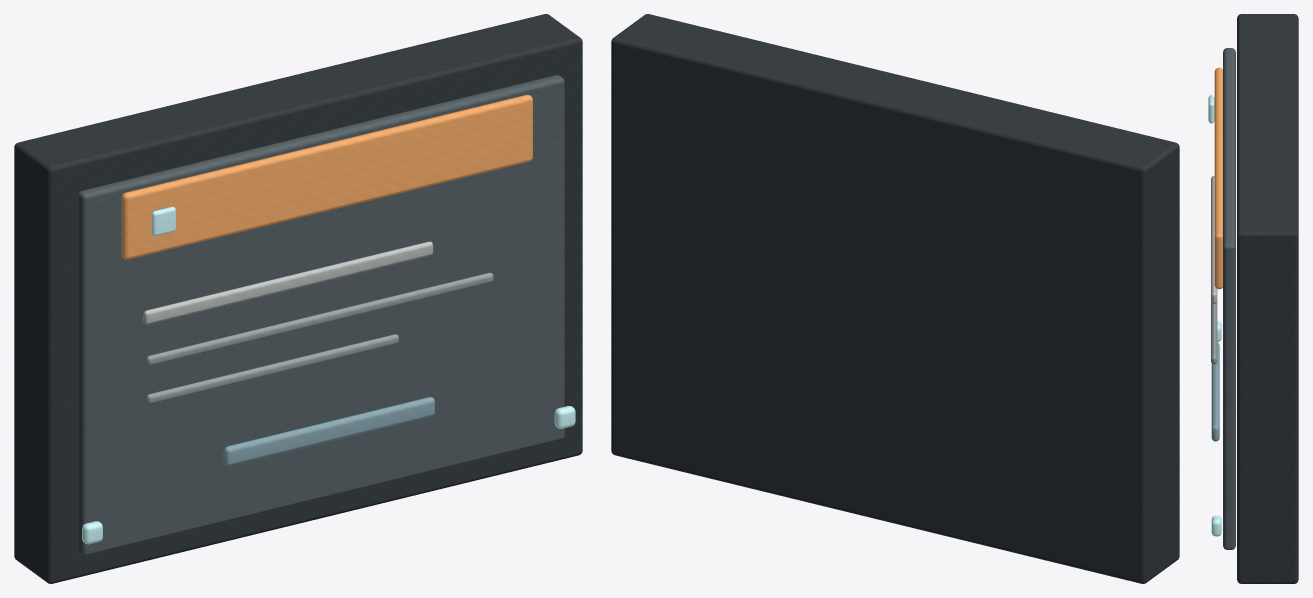
The model's file is WallSign.glb.
The picture shows the model from 3 angles, left to right: view 1: azimuth 30°, elevation 25°; view 2: azimuth 150°, elevation 25°; view 3: azimuth 270°, elevation 25°; orthographic projection. The views are drawn at different scales.
Visible parts, largest first — view 1: WallSign_Mesh; view 2: WallSign_Mesh; view 3: WallSign_Mesh.
Boxes of the visible parts, bbox=[...] form: WallSign_Mesh: bbox=[14, 14, 582, 583]; WallSign_Mesh: bbox=[611, 14, 1179, 583]; WallSign_Mesh: bbox=[1208, 14, 1298, 583].
Bounding box in the file's own units: 1.02 × 0.76 × 0.176.
7 materials, 7 textured.
